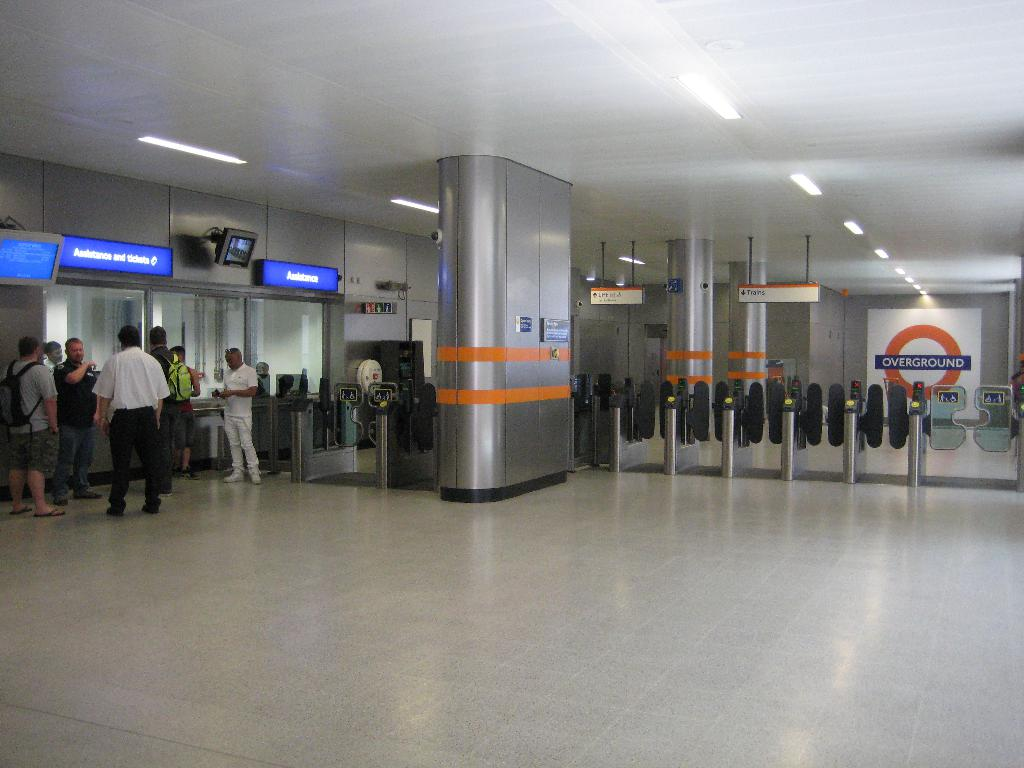Person: (2, 325, 203, 521), (211, 346, 260, 484)
